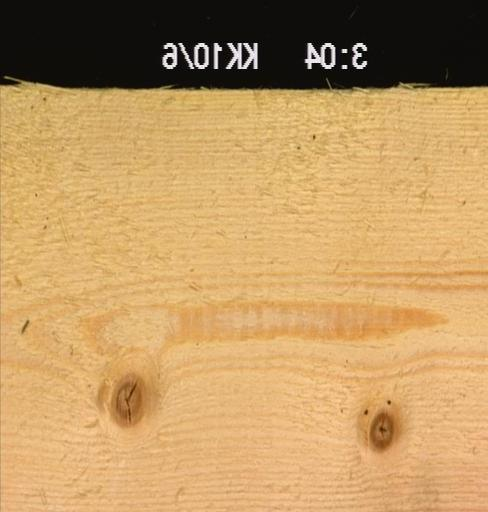sound_knot: (109, 373, 150, 429), (369, 410, 395, 450)
